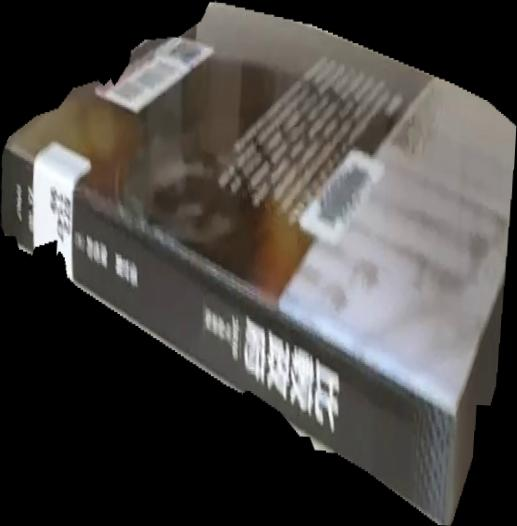flat: (1, 1, 517, 526)
